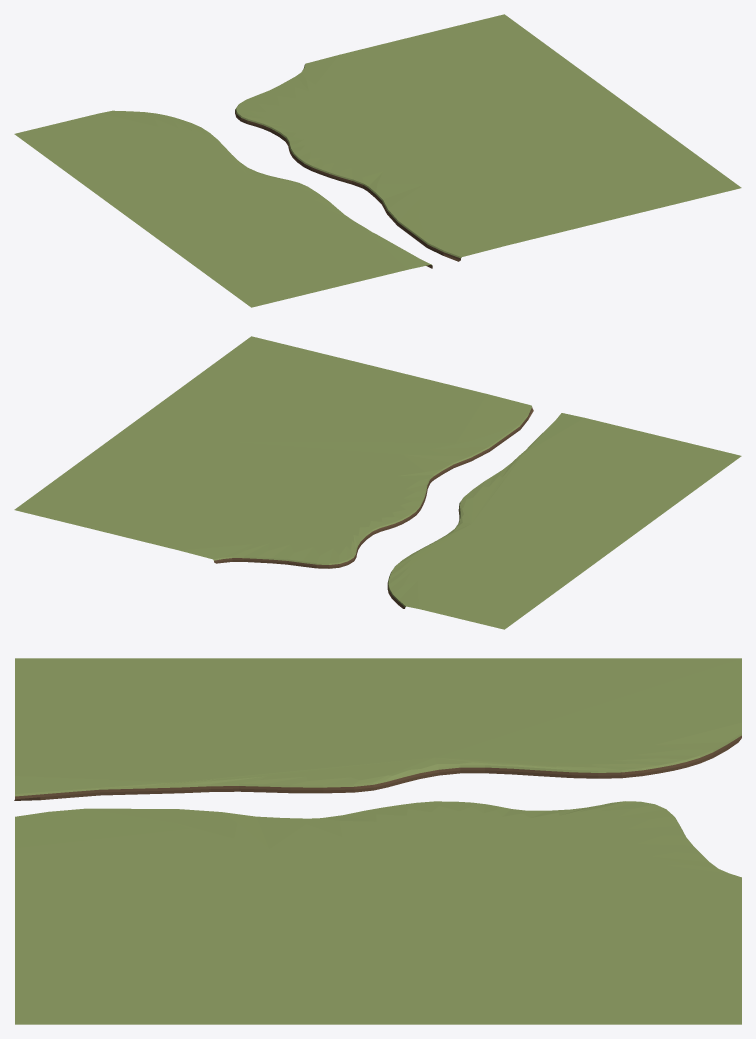
Rendered from land.fbx.
3 renders of one model, top to bottom at view 1: azimuth 30°, elevation 25°; view 2: azimuth 150°, elevation 25°; view 3: azimuth 270°, elevation 25°, orthographic. The views are drawn at different scales.
Parts seen in each view (by area): view 1: land; view 2: land; view 3: land.
Boxes of the visible parts, x1,y1,x2,y2 form: land: (14, 14, 741, 307); land: (14, 336, 741, 629); land: (14, 658, 741, 1024).
Bounding box in the file's own units: 28788 × 315 × 24165.
